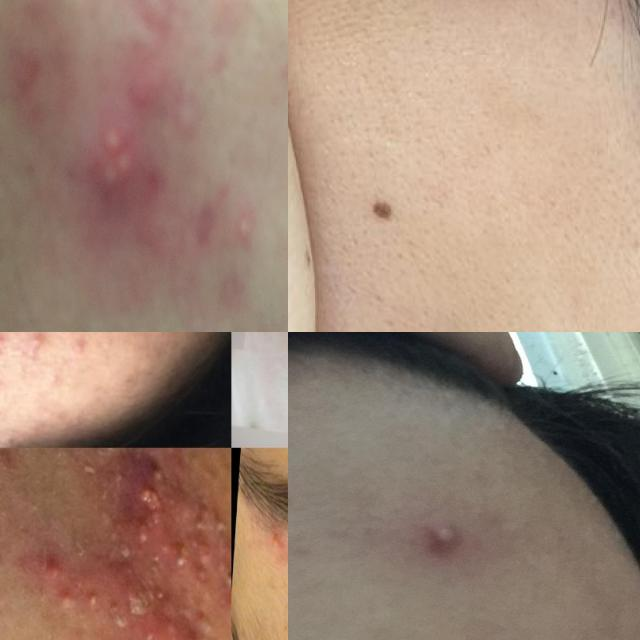comedone: (24, 332, 50, 347), (0, 332, 9, 348)
papule: (38, 536, 70, 587)
pustule: (268, 528, 282, 558)
sebo-crystan-conglo: (102, 448, 219, 588), (63, 562, 231, 640)
